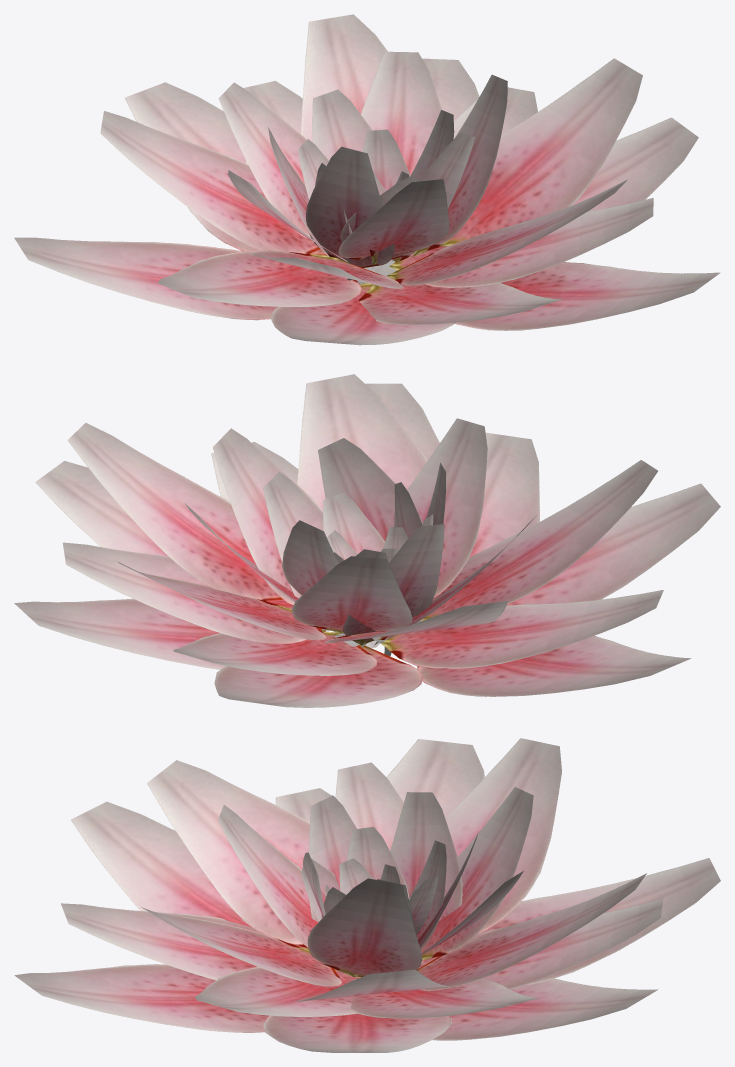
The model's file is Lokvanj sa cvetom.fbx.
3 views of the same model, one above another, from view 1: azimuth 30°, elevation 25°; view 2: azimuth 150°, elevation 25°; view 3: azimuth 270°, elevation 25° (orthographic). The views are drawn at different scales.
Parts seen in each view (by area): view 1: Group3, Group2; view 2: Group3, Group2; view 3: Group3, Group2.
Boxes of the visible parts, x1,y1,x2,y2 form: Group3: (100, 14, 653, 324); Group2: (14, 58, 720, 345); Group3: (63, 374, 663, 675); Group2: (14, 383, 720, 707); Group3: (61, 738, 663, 1018); Group2: (14, 739, 720, 1052).
Size of what is drawn, in the model's own units: 3.66 by 0.96 by 3.48.
